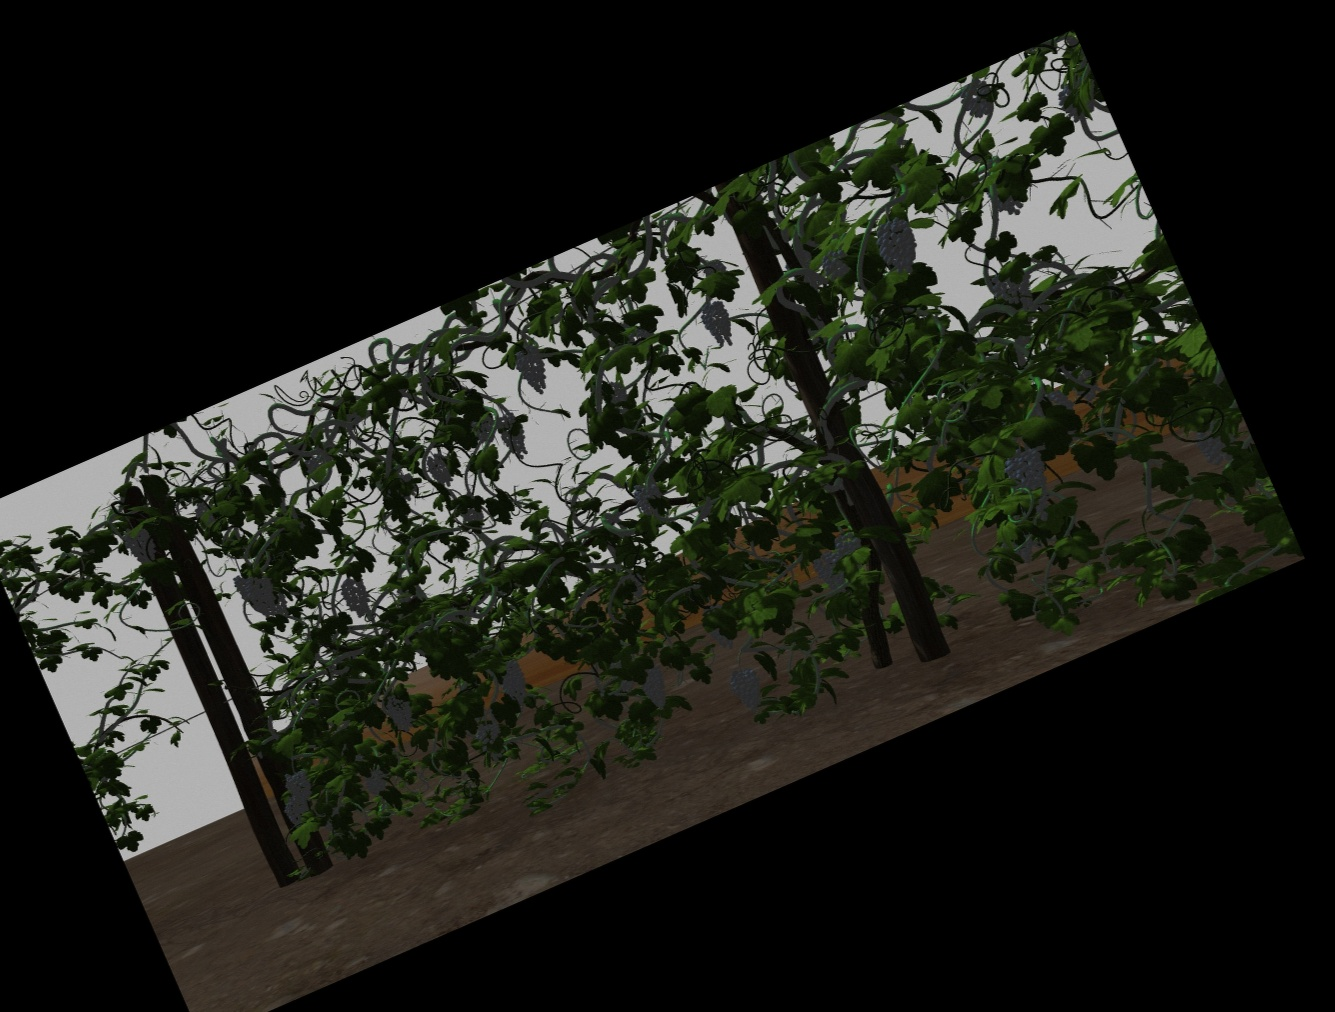grape: (1013, 448, 1051, 521), (877, 216, 916, 272), (996, 269, 1034, 311), (239, 570, 272, 618), (518, 343, 545, 394), (498, 659, 527, 704), (1199, 426, 1234, 462), (501, 412, 526, 461), (635, 480, 664, 522), (705, 303, 731, 347), (126, 526, 154, 566), (642, 668, 669, 708), (816, 551, 843, 590), (732, 668, 758, 708), (387, 693, 412, 733), (962, 84, 992, 116), (343, 577, 368, 615), (428, 453, 452, 486), (286, 770, 309, 803), (822, 250, 848, 276), (474, 721, 500, 744), (285, 800, 309, 824), (834, 533, 860, 555), (364, 769, 386, 793)
